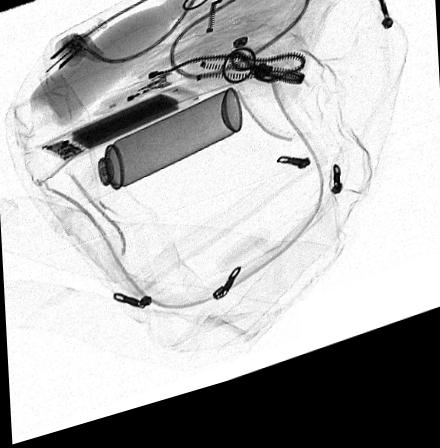Lighter: (97, 79, 178, 121)
Powerbank: (40, 94, 200, 166)
Sprayer: (67, 99, 243, 213)
